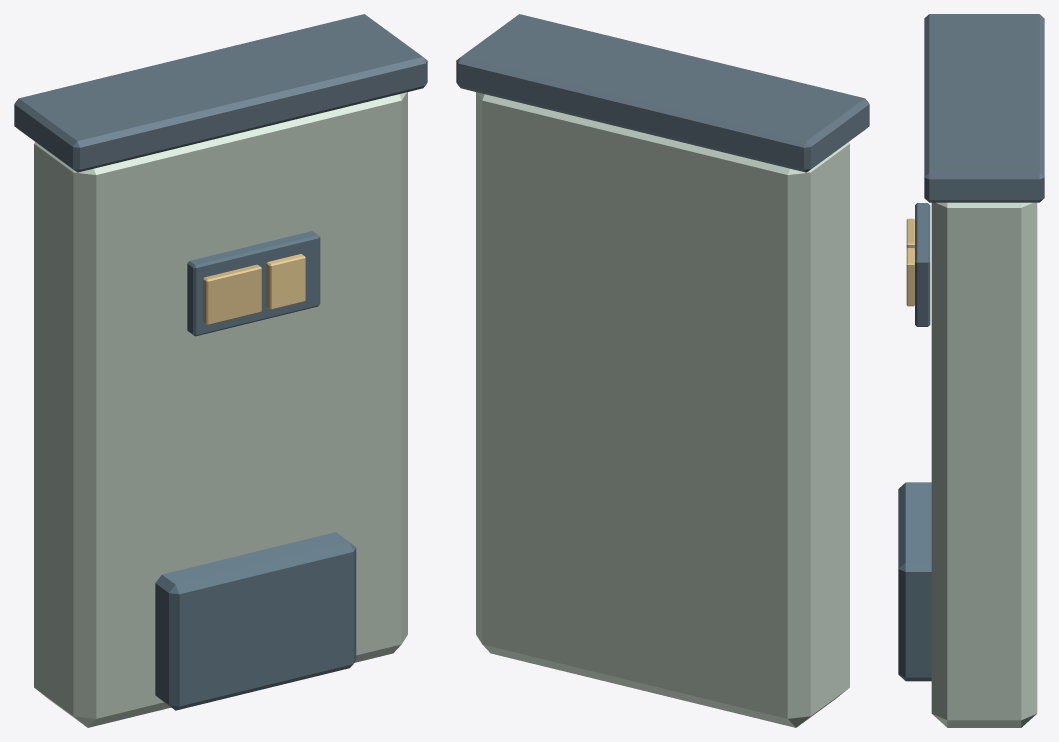
File: EB_WallCistern.fbx
3 views of the same model, side by side, from view 1: azimuth 30°, elevation 25°; view 2: azimuth 150°, elevation 25°; view 3: azimuth 270°, elevation 25° (orthographic). The views are drawn at different scales.
Parts seen in each view (by area): view 1: EB_WallCistern; view 2: EB_WallCistern; view 3: EB_WallCistern.
Part boxes in pixels (x1=…): EB_WallCistern: x1=14, y1=14, x2=427, y2=727; EB_WallCistern: x1=456, y1=14, x2=869, y2=727; EB_WallCistern: x1=898, y1=14, x2=1044, y2=727.
Bounding box in the file's own units: 0.53 × 0.855 × 0.2005.
